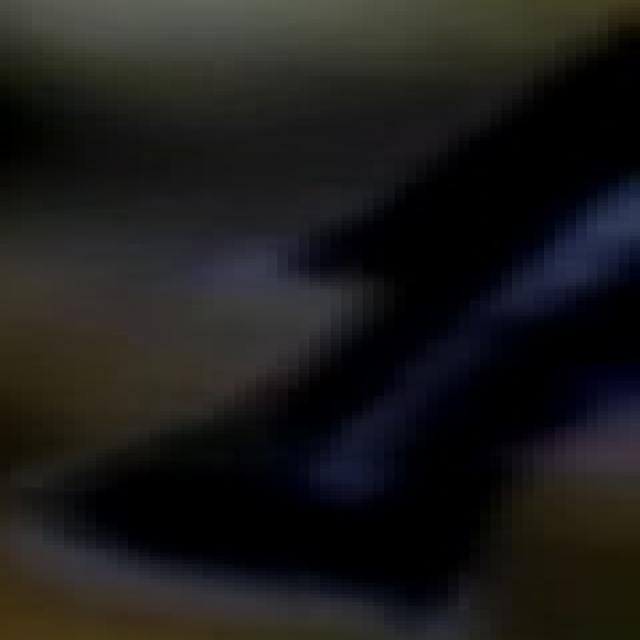fish: (0, 0, 630, 636)
